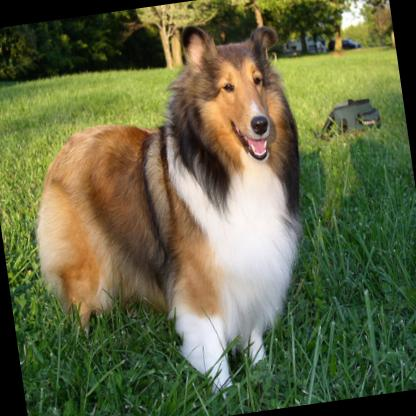Shetland_sheepdog: (5, 8, 337, 416)
